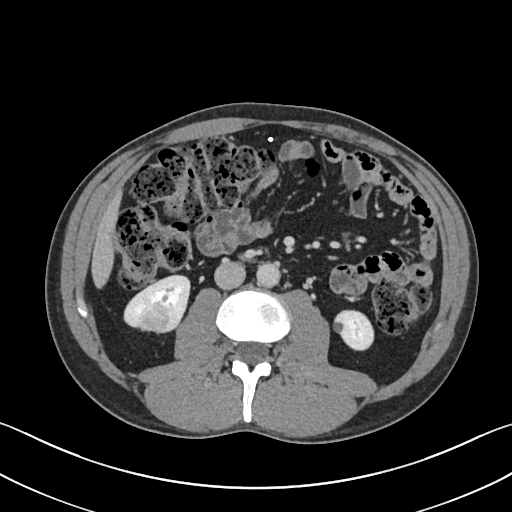Lesion: (138, 297, 170, 332)
